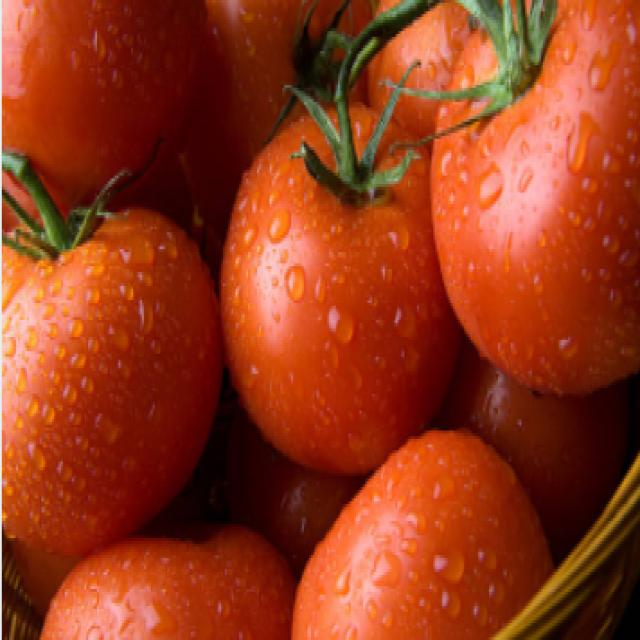Tomato: (223, 69, 454, 434)
